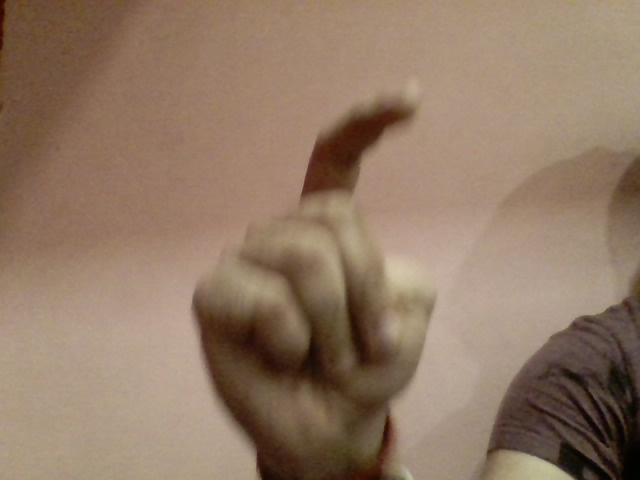x: (184, 62, 452, 438)
